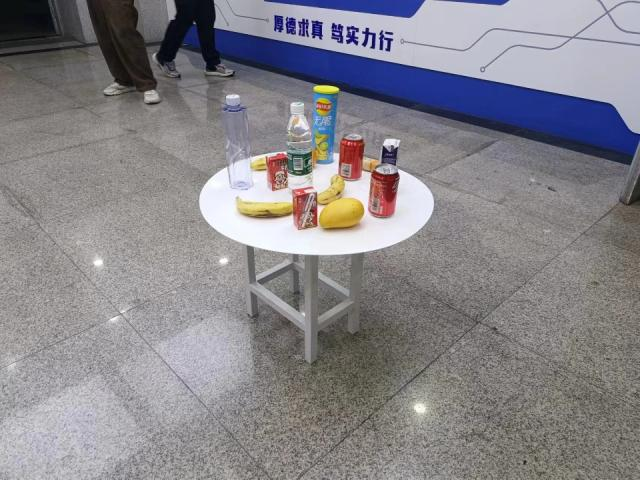Canned_drinks: (367, 163, 398, 217), (338, 133, 364, 181)
bottle: (221, 94, 256, 192), (286, 101, 313, 192)
cylinder: (313, 85, 338, 164)
drink_box: (292, 187, 319, 230), (266, 152, 290, 191), (381, 138, 400, 185)
